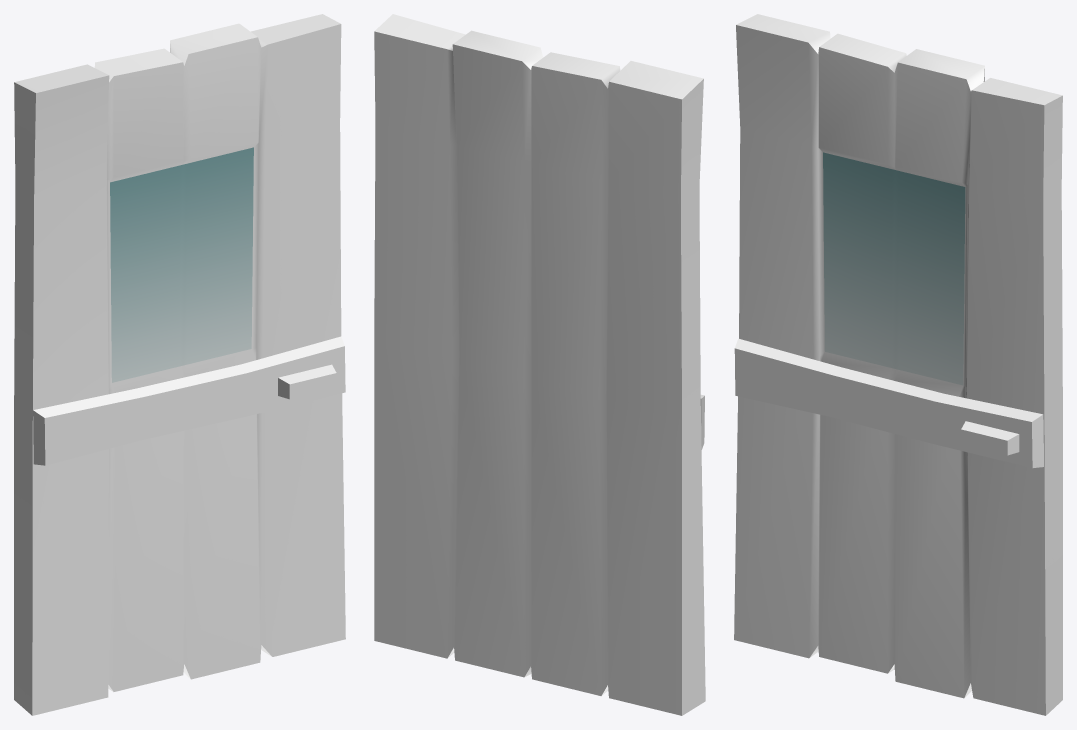
The model's file is door.fbx.
The picture shows the model from 3 angles, left to right: view 1: azimuth 30°, elevation 25°; view 2: azimuth 150°, elevation 25°; view 3: azimuth 330°, elevation 25°; orthographic projection.
Parts seen in each view (by area): view 1: door; view 2: door; view 3: door.
Part boxes in pixels (x1,y1,x2,y2): door: (14, 14, 345, 715); door: (374, 14, 705, 715); door: (734, 14, 1062, 715).
Bounding box in the file's own units: 85.68 × 163 × 17.63.
